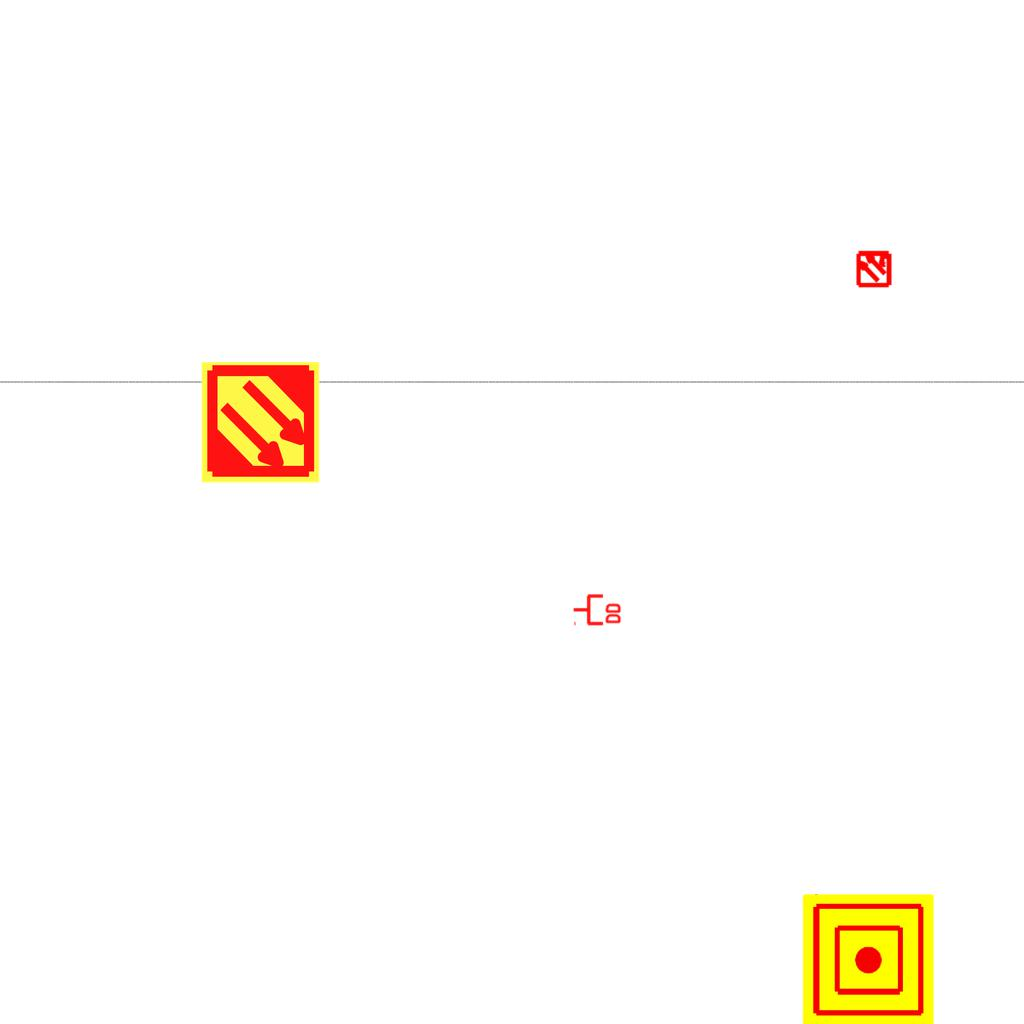ASR_Ansaugrauchmelder: (198, 360, 323, 485)
Datenanschluss_zweifach: (572, 592, 623, 626)
NAM-Nichtautomatischer_Melder: (802, 894, 934, 1024)
OT_Multisensormelder_(Kombination_RMO_WMD): (846, 240, 902, 296)
